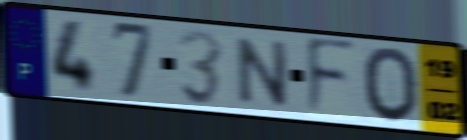3: (176, 28, 230, 107)
4: (48, 17, 102, 96)
7: (108, 18, 155, 102)
F: (304, 35, 359, 120)
N: (235, 34, 292, 109)
O: (361, 45, 421, 126)
